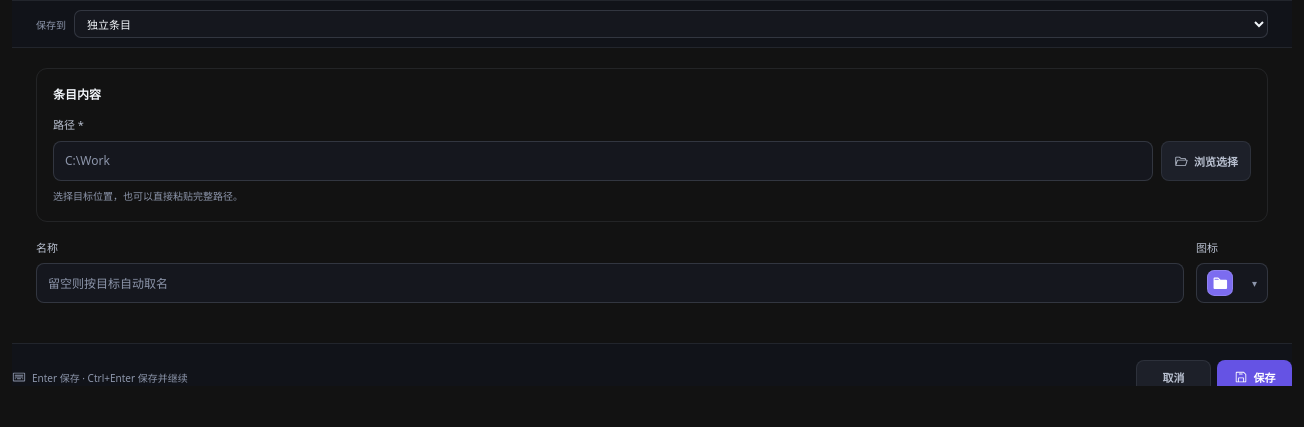
Test: ItemForm path input › does not accept a path that is nothing but quotes and spaces
Type "Empty" into the field with test id "item-name-input" at (610, 283), box [36,263,1184,303]
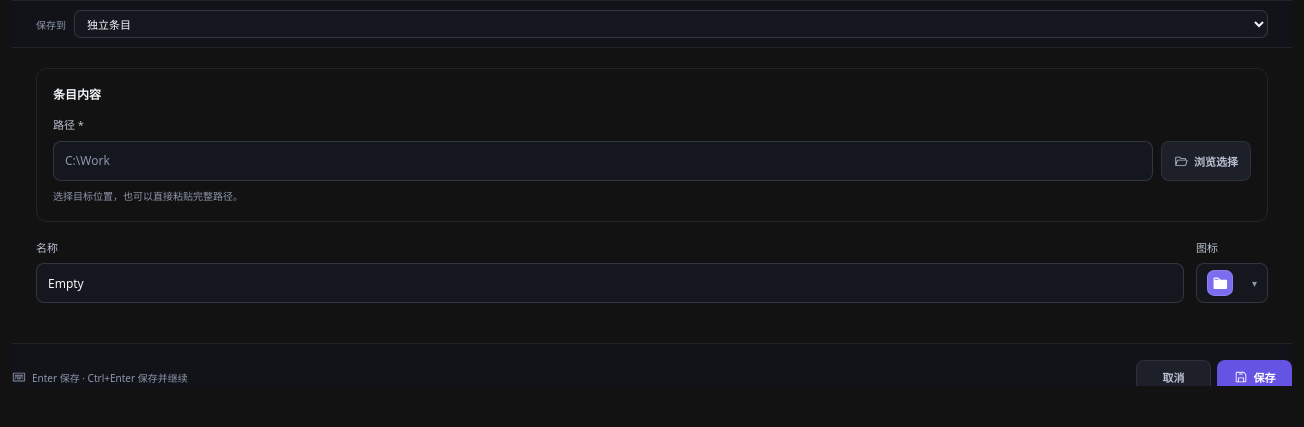
Type " \"\" " into the field with test id "item-path-input" at (603, 160), box [53,140,1153,180]
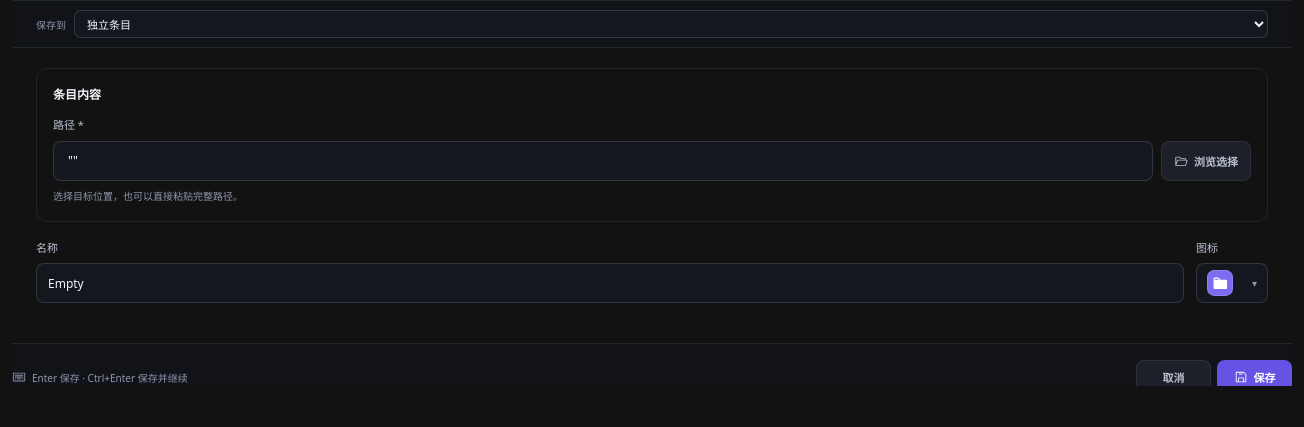
Click the button with test id "item-save" at (1254, 377), box [1217,360,1292,394]
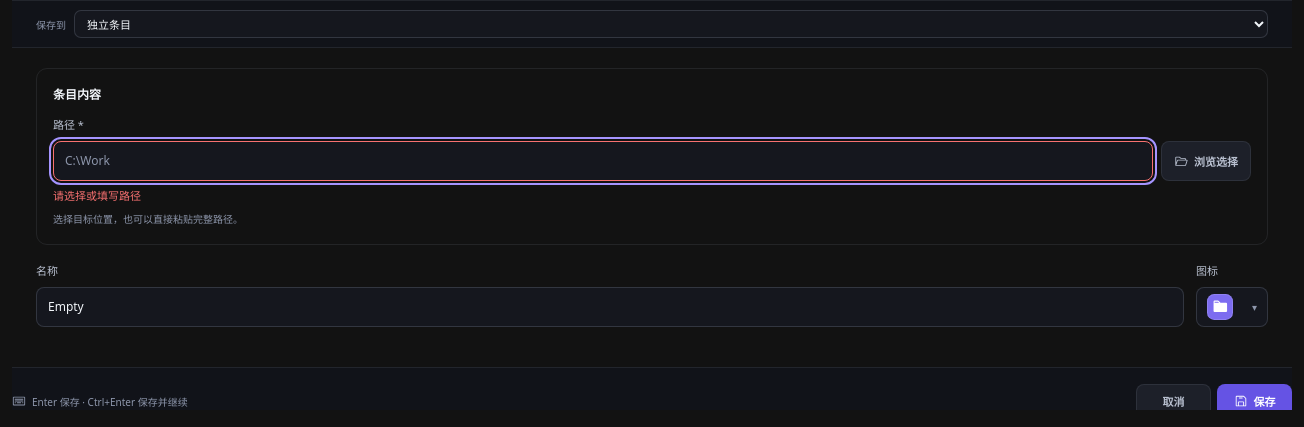
Check: the message shows "路径", box [53,188,141,202]
Check: the field with test id "item-path-input" is empty, box [53,140,1153,180]
